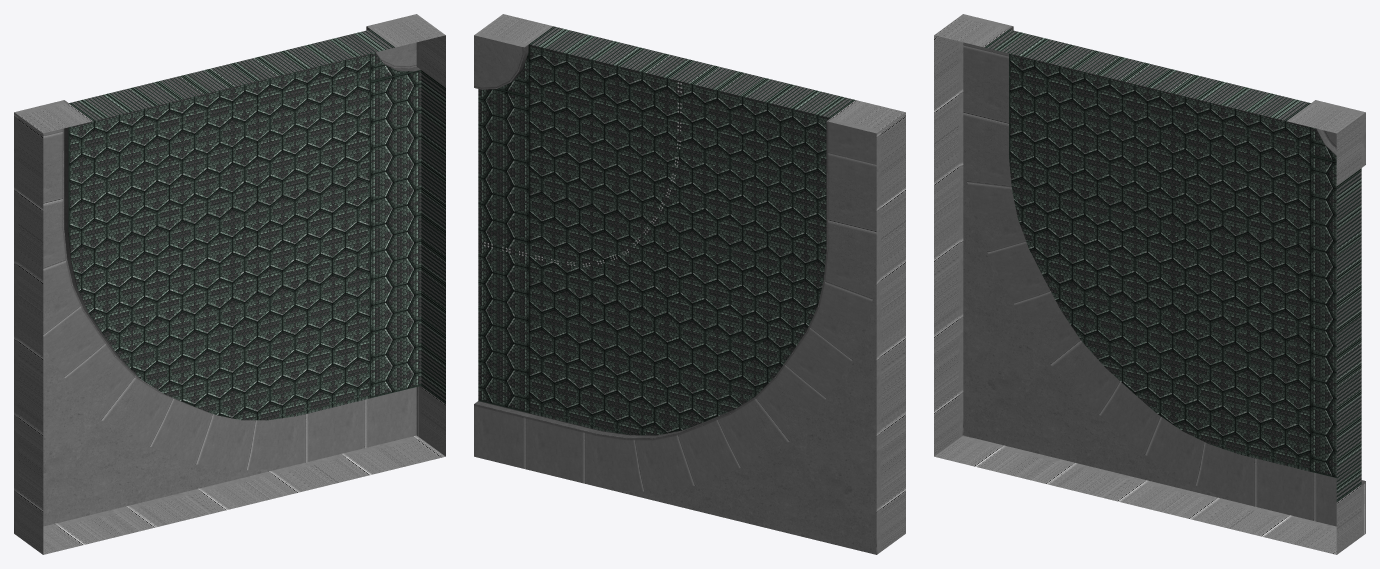
File: TC_road_90_degree_turn.fbx
3 renders of one model, left to right at view 1: azimuth 30°, elevation 25°; view 2: azimuth 150°, elevation 25°; view 3: azimuth 330°, elevation 25°, orthographic.
Visible parts, largest first — view 1: TC_road_90_degree_turn; view 2: TC_road_90_degree_turn; view 3: TC_road_90_degree_turn.
Boxes of the visible parts, x1,y1,x2,y2 form: TC_road_90_degree_turn: [14, 14, 445, 554]; TC_road_90_degree_turn: [474, 14, 905, 554]; TC_road_90_degree_turn: [934, 14, 1365, 554].
Size of the model in its own units: 8 by 8 by 1.
